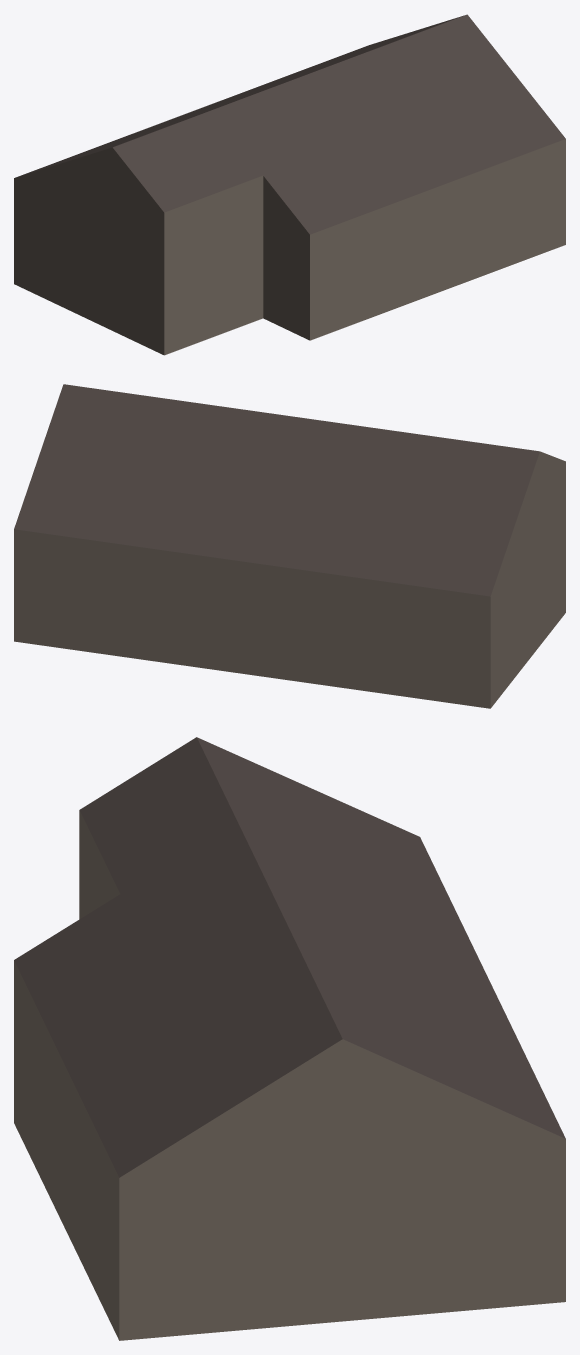
3 views of the same model, one above another, from view 1: azimuth 30°, elevation 25°; view 2: azimuth 150°, elevation 25°; view 3: azimuth 270°, elevation 25° (orthographic). The views are drawn at different scales.
Visible parts, largest first — view 1: HP-w1376988742; view 2: HP-w1376988742; view 3: HP-w1376988742.
Boxes of the visible parts, x1=… form: HP-w1376988742: x1=14, y1=14, x2=565, y2=355; HP-w1376988742: x1=14, y1=384, x2=565, y2=708; HP-w1376988742: x1=14, y1=737, x2=565, y2=1340.
Bounding box in the file's own units: 26.92 × 10.39 × 18.42.
